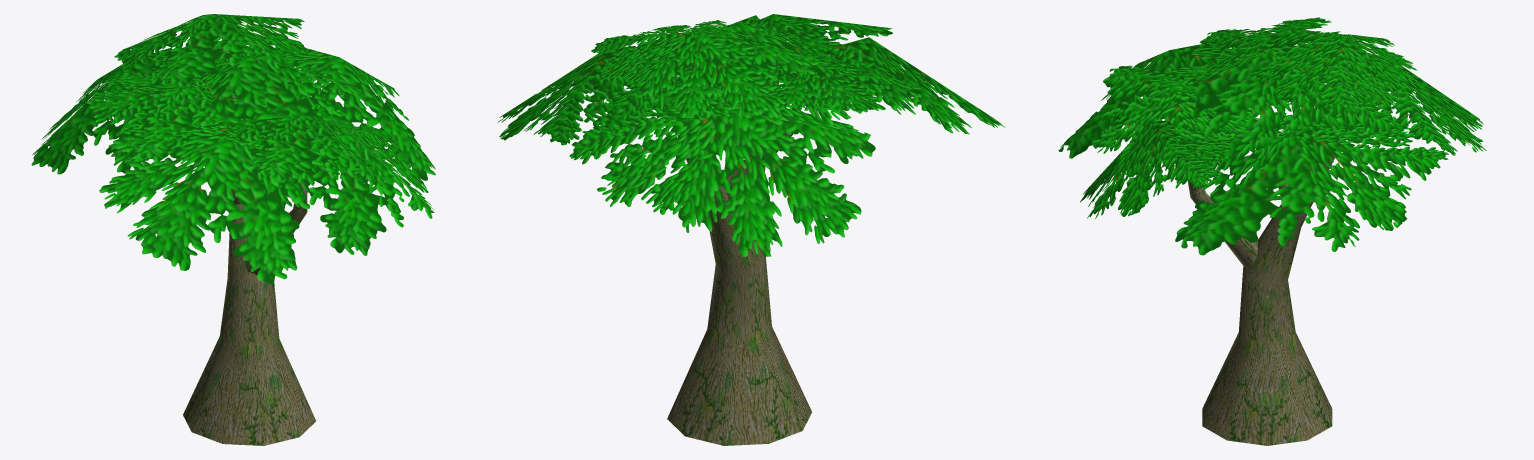
File: tree07.obj
3 renders of one model, left to right at view 1: azimuth 30°, elevation 25°; view 2: azimuth 150°, elevation 25°; view 3: azimuth 270°, elevation 25°, orthographic. The views are drawn at different scales.
Parts seen in each view (by area): view 1: Duplicate06, Cylinder03, Duplicate09, Sphere02, Duplicate05, Duplicate03, Duplicate08, Duplicate04, Duplicate07; view 2: Duplicate07, Cylinder03, Sphere02, Duplicate08, Duplicate06, Duplicate03, Duplicate05, Duplicate04; view 3: Duplicate08, Cylinder03, Duplicate05, Sphere02, Duplicate04, Duplicate09, Duplicate07, Duplicate06, Duplicate03, Duplicate01.
Part boxes in pixels (x1=…): Duplicate06: x1=99, y1=86, x2=320, y2=284; Cylinder03: x1=183, y1=38, x2=315, y2=445; Duplicate09: x1=260, y1=120, x2=434, y2=255; Sphere02: x1=114, y1=14, x2=306, y2=87; Duplicate05: x1=132, y1=45, x2=359, y2=165; Duplicate03: x1=86, y1=62, x2=272, y2=162; Duplicate08: x1=228, y1=36, x2=435, y2=180; Duplicate04: x1=229, y1=110, x2=389, y2=183; Duplicate07: x1=31, y1=41, x2=222, y2=174; Duplicate07: x1=569, y1=81, x2=875, y2=256; Cylinder03: x1=667, y1=63, x2=811, y2=445; Sphere02: x1=591, y1=20, x2=819, y2=119; Duplicate08: x1=497, y1=46, x2=723, y2=145; Duplicate06: x1=778, y1=37, x2=1005, y2=134; Duplicate03: x1=695, y1=52, x2=921, y2=113; Duplicate05: x1=608, y1=23, x2=856, y2=135; Duplicate04: x1=677, y1=14, x2=892, y2=76; Duplicate08: x1=1175, y1=108, x2=1448, y2=255; Cylinder03: x1=1202, y1=82, x2=1334, y2=445; Duplicate05: x1=1138, y1=53, x2=1409, y2=155; Sphere02: x1=1250, y1=27, x2=1417, y2=115; Duplicate04: x1=1092, y1=65, x2=1259, y2=189; Duplicate09: x1=1080, y1=121, x2=1244, y2=218; Duplicate07: x1=1288, y1=55, x2=1486, y2=155; Duplicate06: x1=1058, y1=34, x2=1254, y2=158; Duplicate03: x1=1200, y1=17, x2=1348, y2=105; Duplicate01: x1=1188, y1=182, x2=1258, y2=267.
Bounding box in the file's own units: 254 × 235 × 261.
